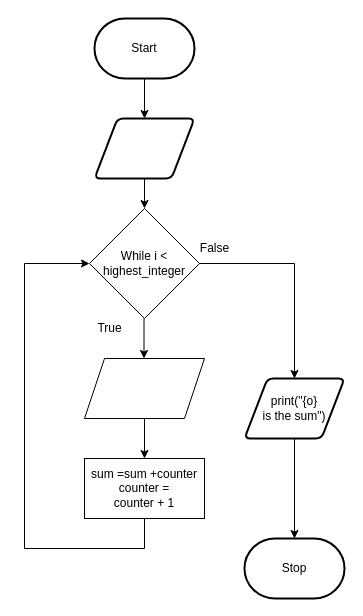
This 363x616 diagram has some shape labels left out. The centre of each missing label's shape, as x and y in pixels:
"Get number" goes at (144,148).
"sum = sum +counter" goes at (144,388).
